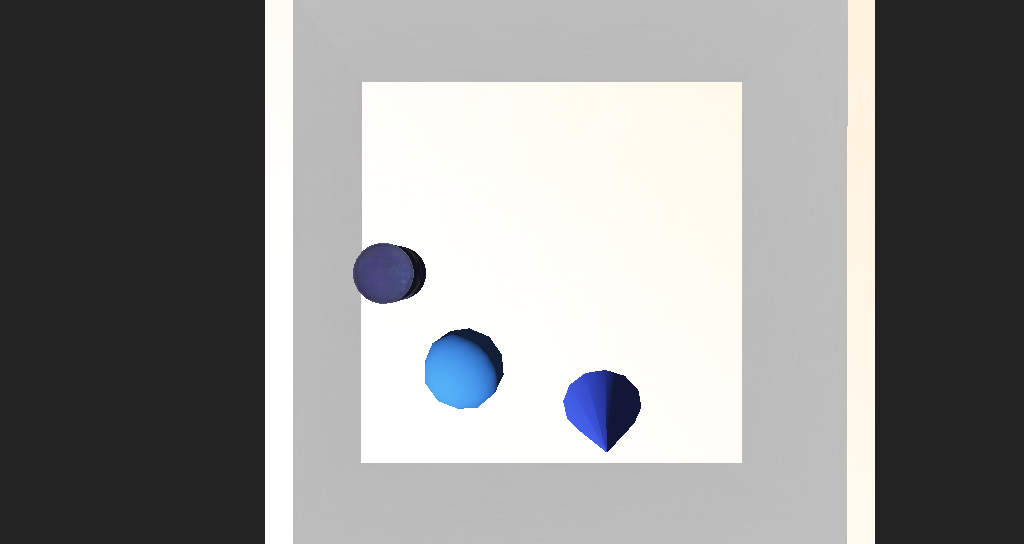cone: (350, 255, 404, 289)
cylinder: (512, 322, 579, 394)
sphere: (408, 303, 468, 346)
